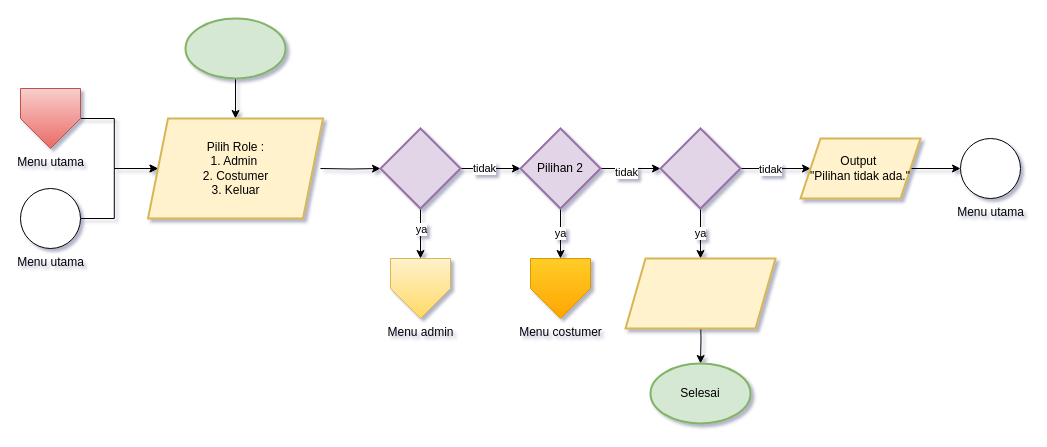
This 1047x447 diagram has some shape labels left out. Here are the shapes that lost their labels. From the top down, the centre of each, then its label:
the point at 235,48: Mulai
the point at 420,168: Pilihan 1
the point at 700,168: Pilihan 3
the point at 700,293: Output "Terima kasih telah menggunakan sistem"
